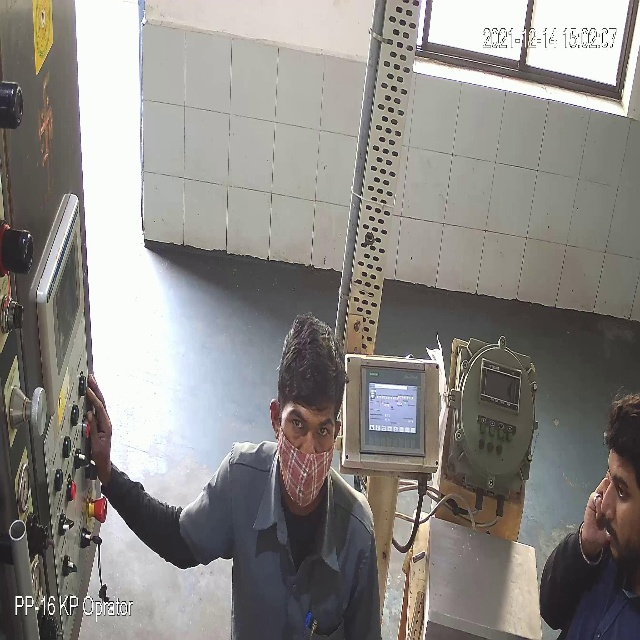Sin_gafas: (281, 404, 337, 445)
Sin_mascara: (600, 501, 638, 568)
